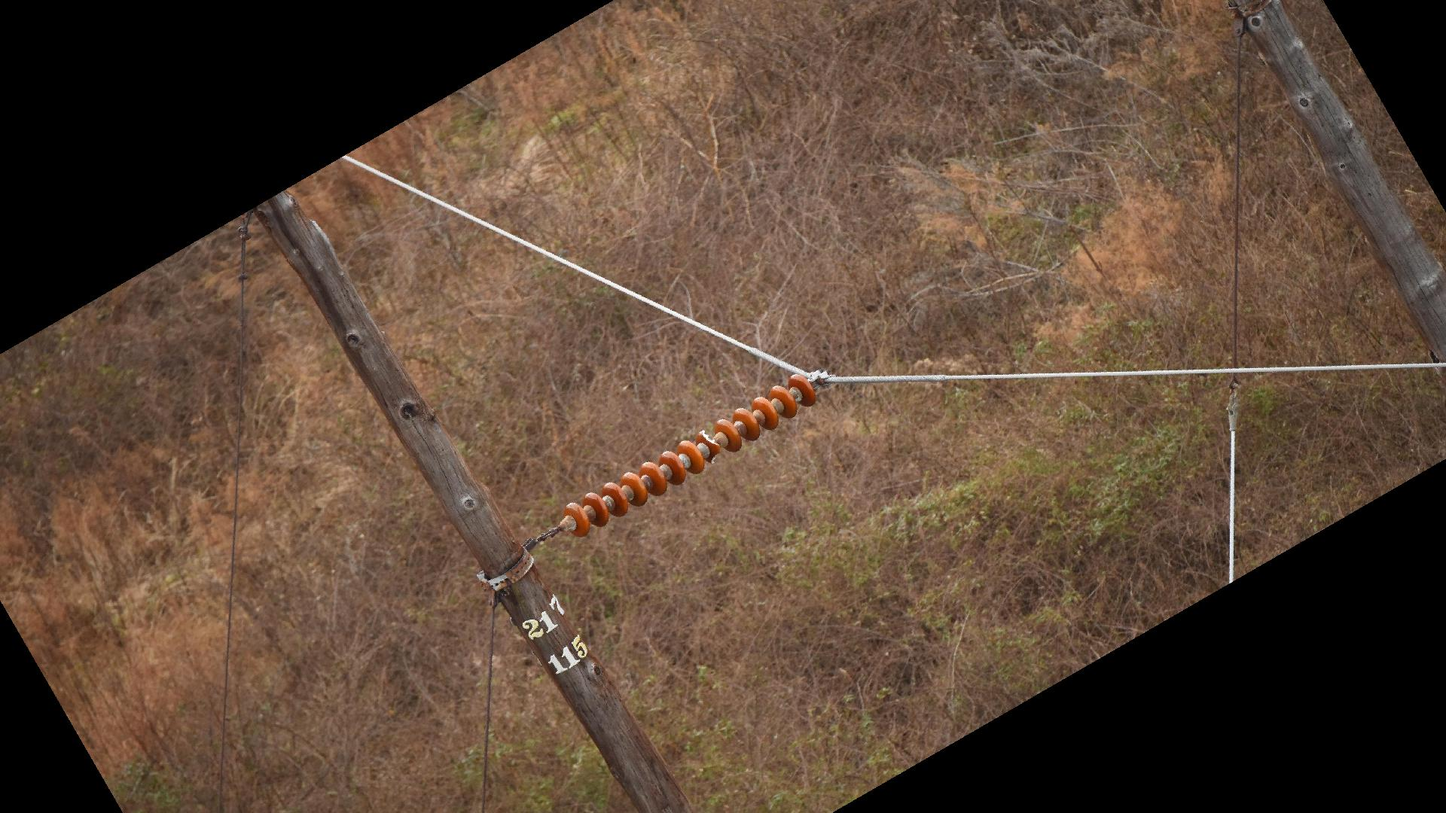insulator: (560, 370, 819, 540)
insulator_breakage: (698, 427, 720, 446), (707, 448, 721, 466)
